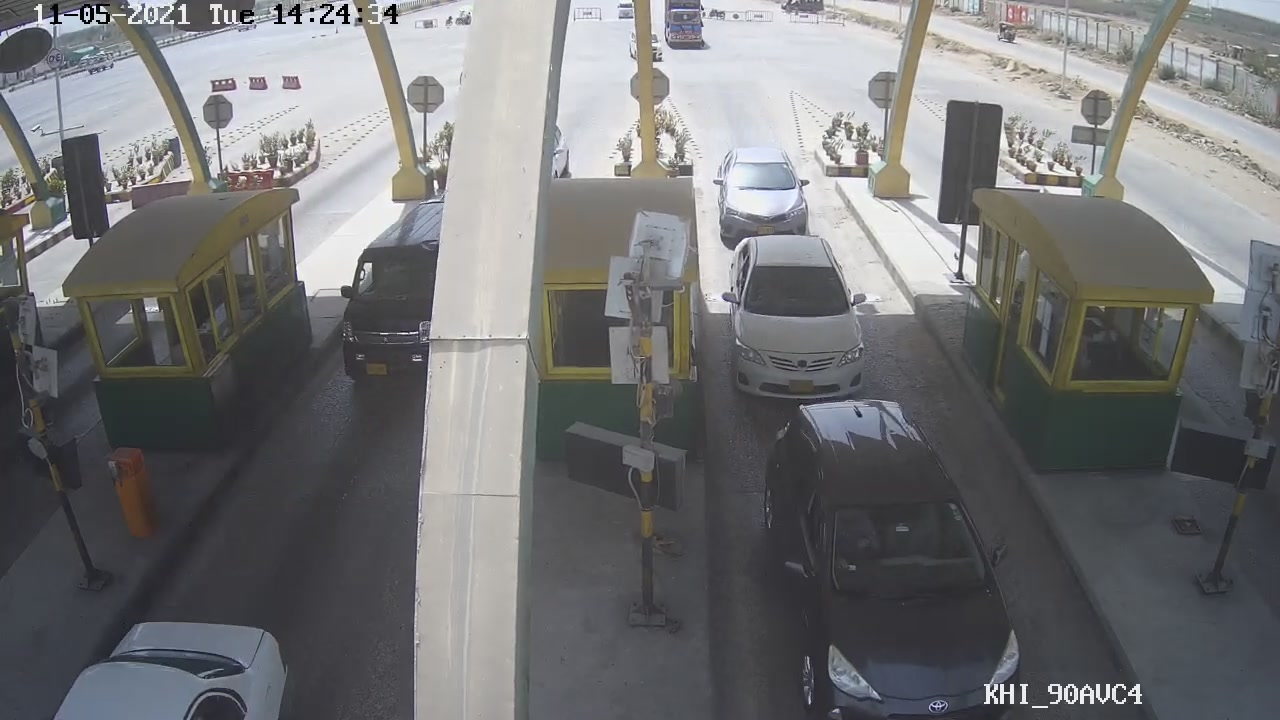F1: (719, 232, 876, 403)
